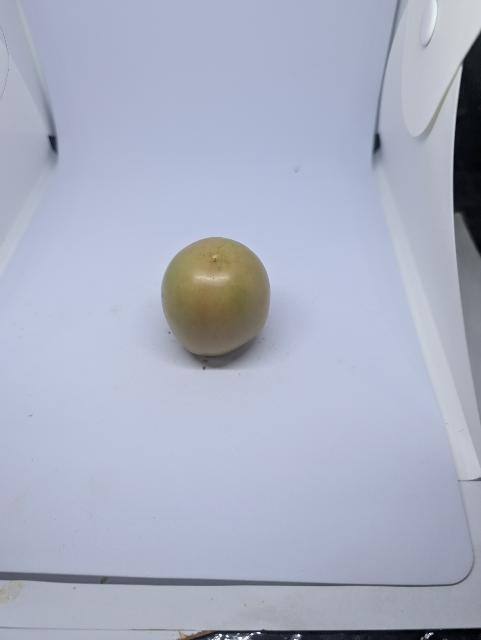breaker: (158, 236, 277, 357)
